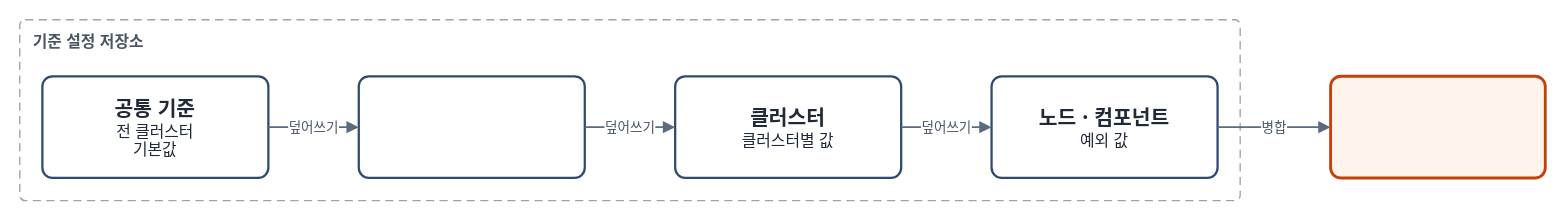
The diagram is 1566 pixels wide and 221 high, and some of its shapes have lost their labels. The shapes that lost their labels are listed below. From the top down, each one's centre as x and y in pixels, then its label:
At point (471, 127): "클러스터 그룹 환경 · 테넌트".
At point (1437, 126): "유효 기준값 차이만 저장 키 스키마 검증".
